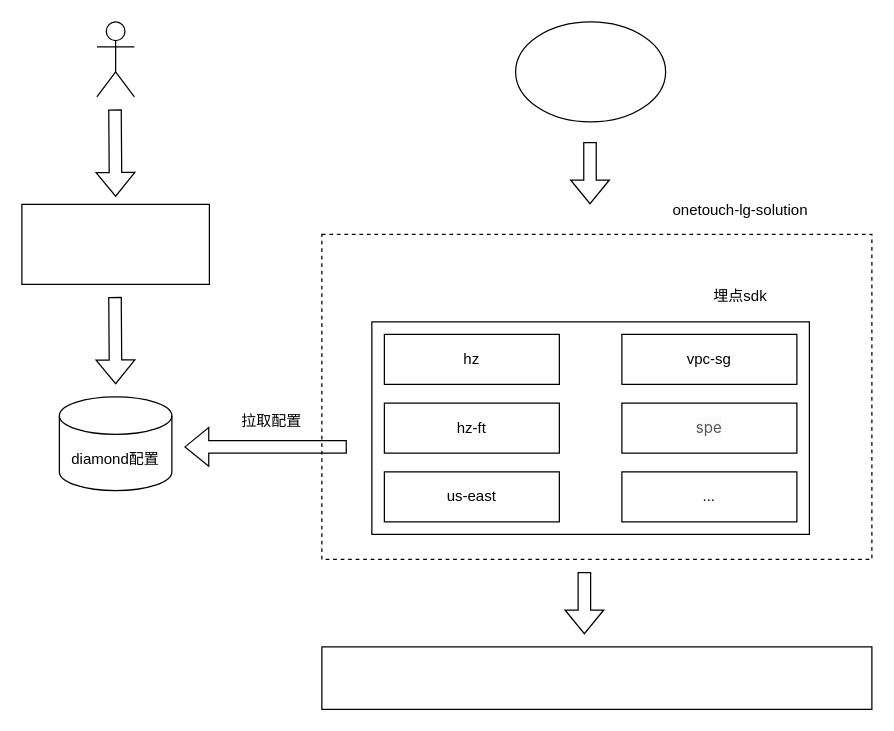
Some shapes in this 894 by 731 pixel diagram are drawn without their labels. The centre of each missing label's shape, as x and y in pixels:
"流量请求" belongs at [590,71].
"特征值采样日志" belongs at [596,677].
"配置下发" belongs at [115,243].
